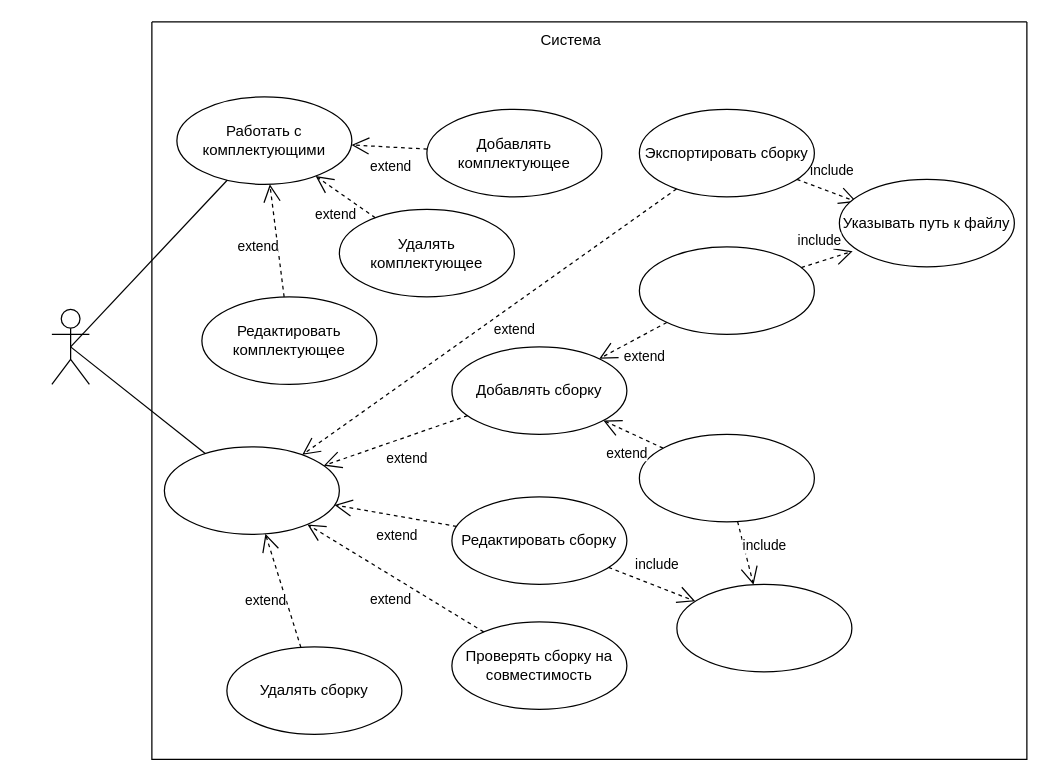
Image size: 1049x781. Some labels were removed from this diagram. Here are the shapes that lost their labels. From the top down, the box of each, then its label:
(638, 246, 814, 334): Импортировать сборку
(51, 308, 89, 384): Пользователь
(163, 446, 339, 534): Работать со сборками
(638, 433, 814, 522): Создавать сборку
(676, 583, 852, 672): Выбирать комплектующие
